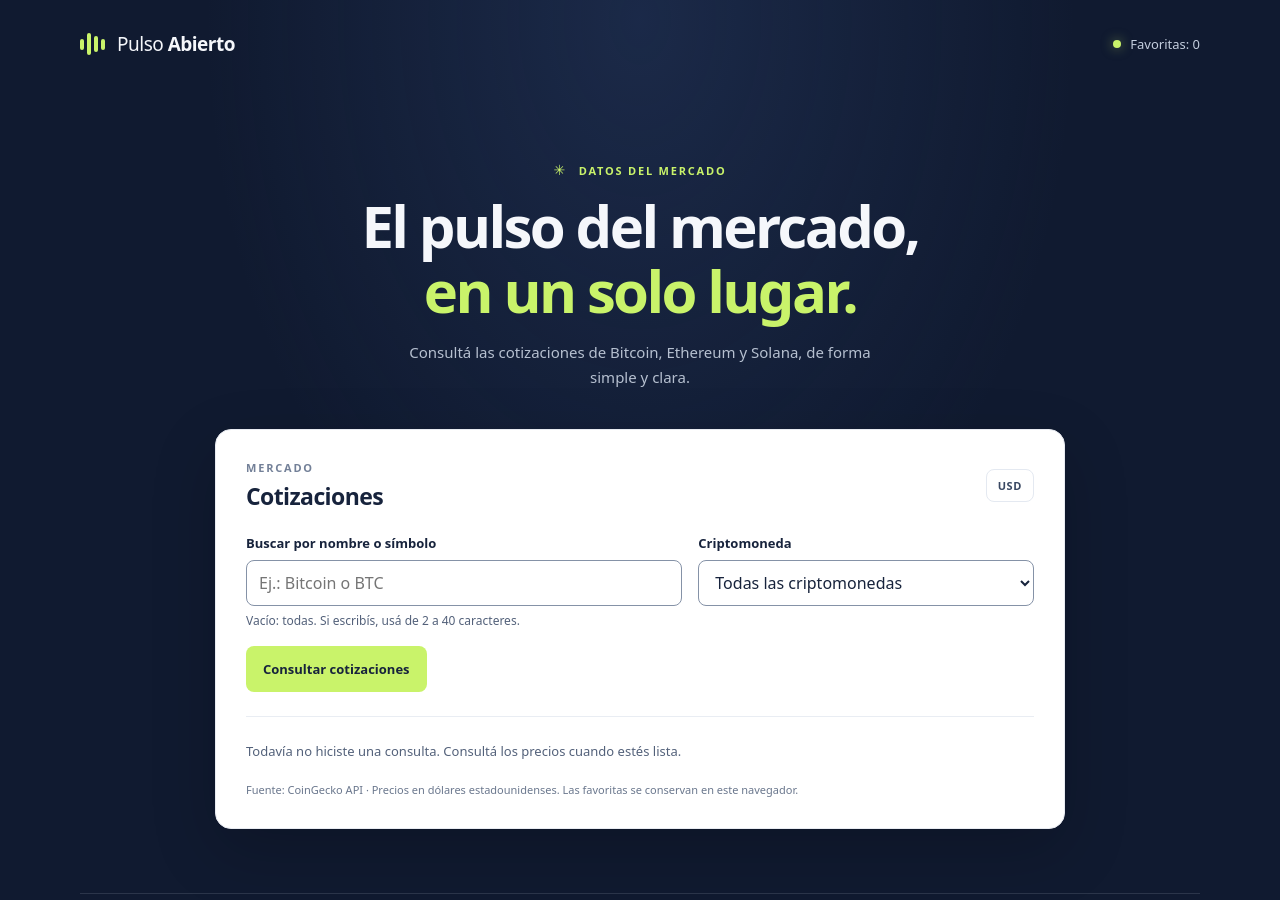
recorridos de Pulso Abierto › bloquea el formulario inválido y combina búsqueda con selección
This screenshot has width=1280, height=900.
Type "x" into the search field labelled "Buscar por nombre o símbolo" at (464, 583), box [246,560,682,606]
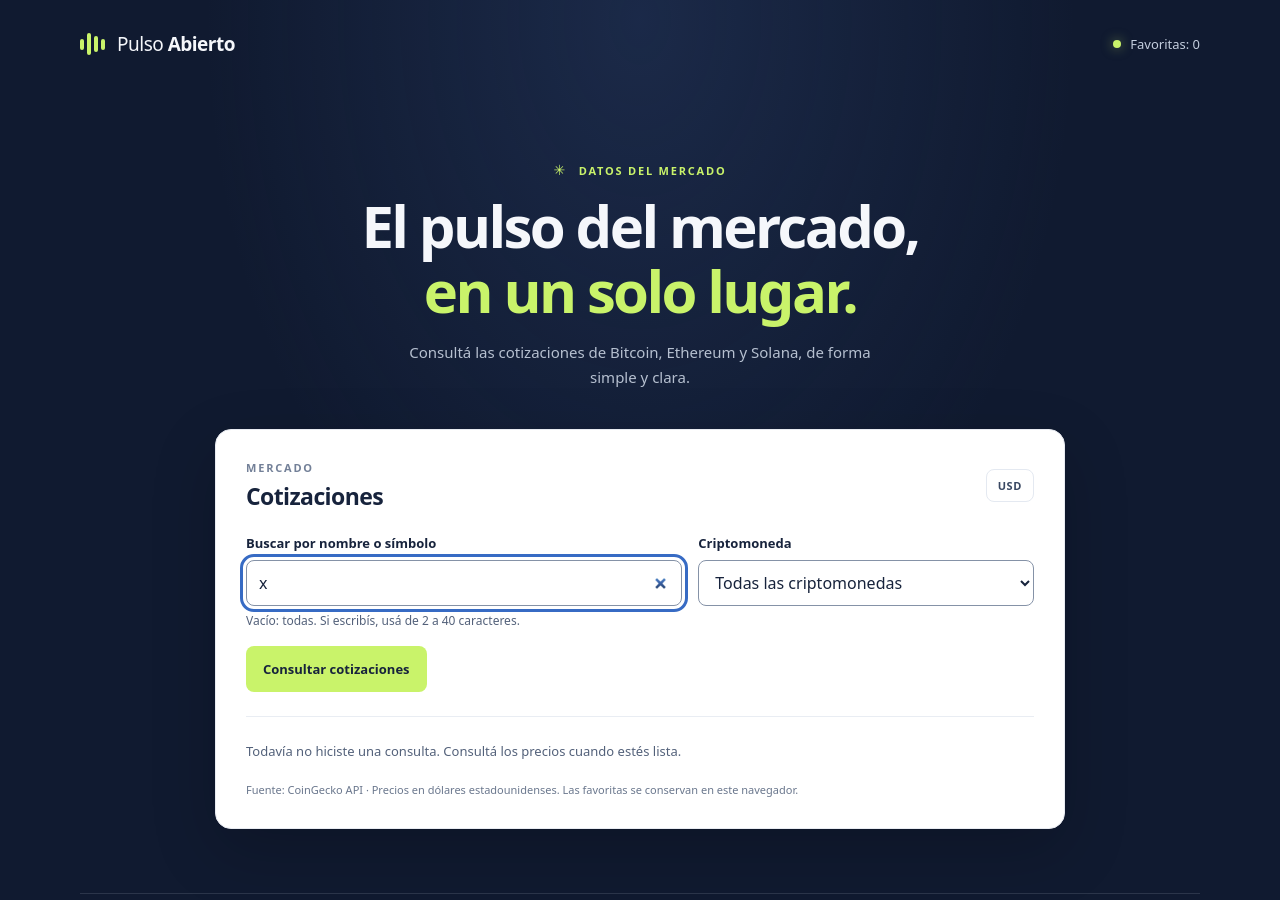
Click the button "Consultar cotizaciones" at (336, 669), box [246,646,426,692]
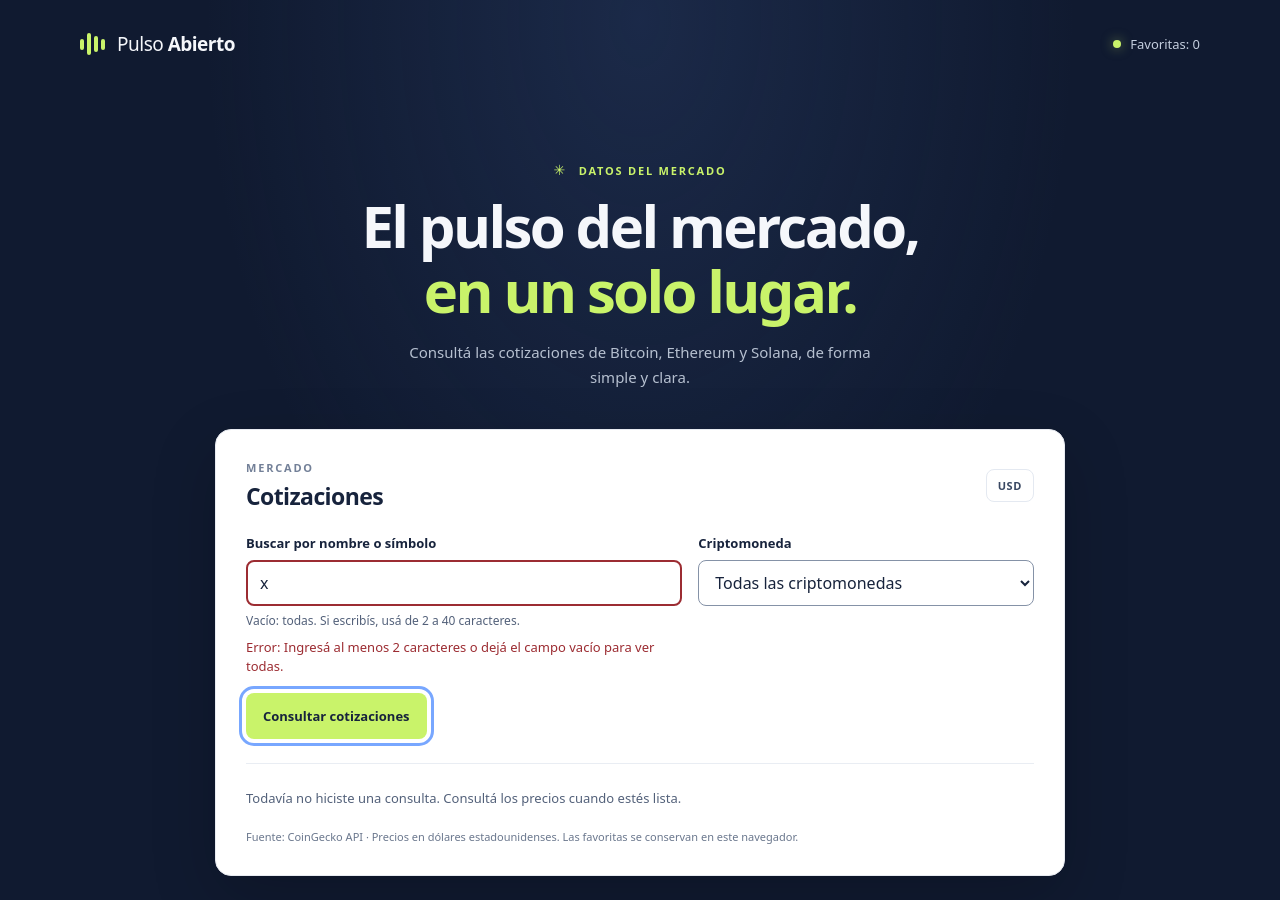
Now the message "Error: Ingresá al menos 2 caracteres o dejá el campo vacío para ver todas." is shown, box [246,638,682,677]
Replace the text in the search field labelled "Buscar por nombre o símbolo" with "BTC" at (464, 583), box [246,560,682,606]
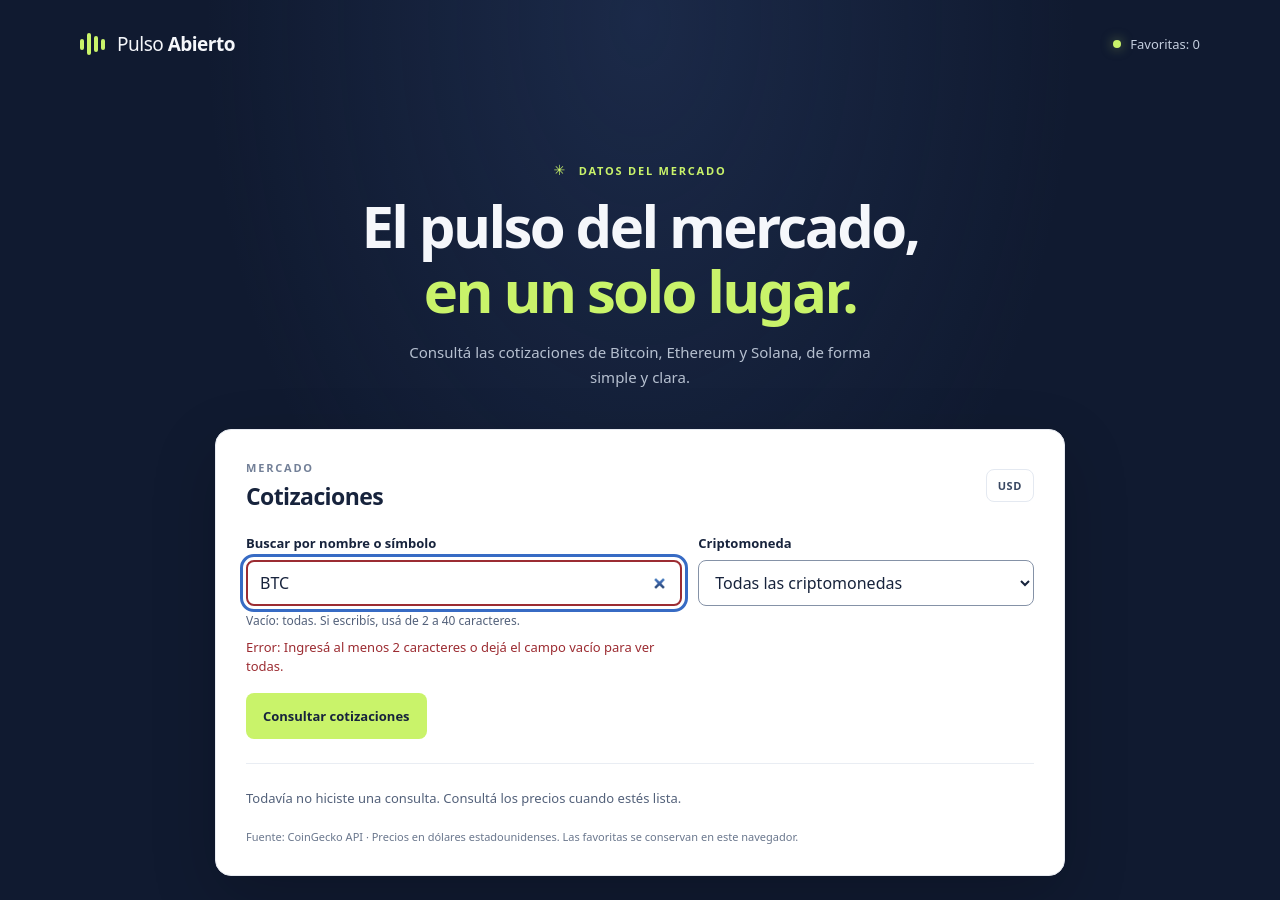
Select "Ethereum" in the dropdown labelled "Criptomoneda" at (866, 583), box [698,560,1034,606]
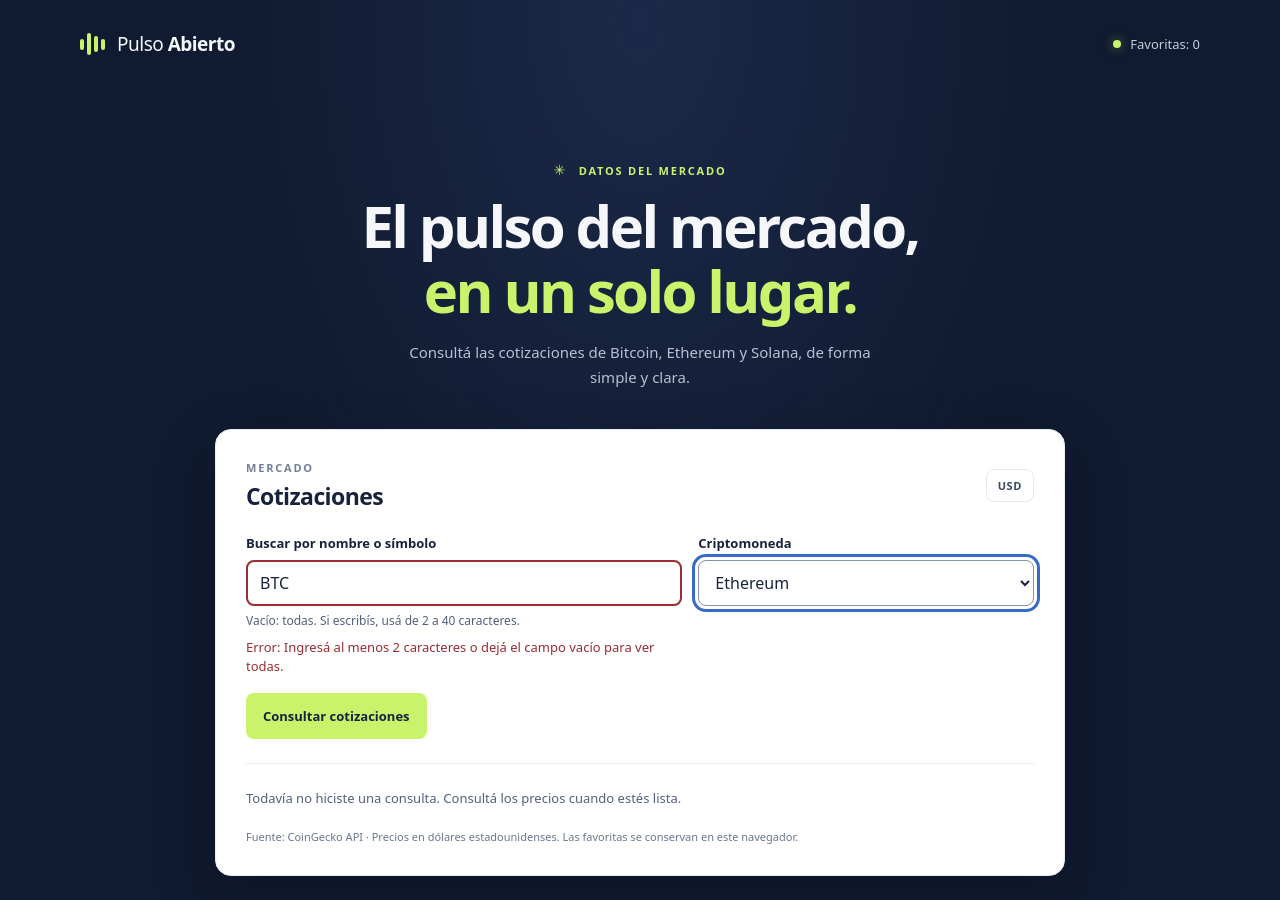
Click the button "Consultar cotizaciones" at (336, 716), box [246,693,426,739]
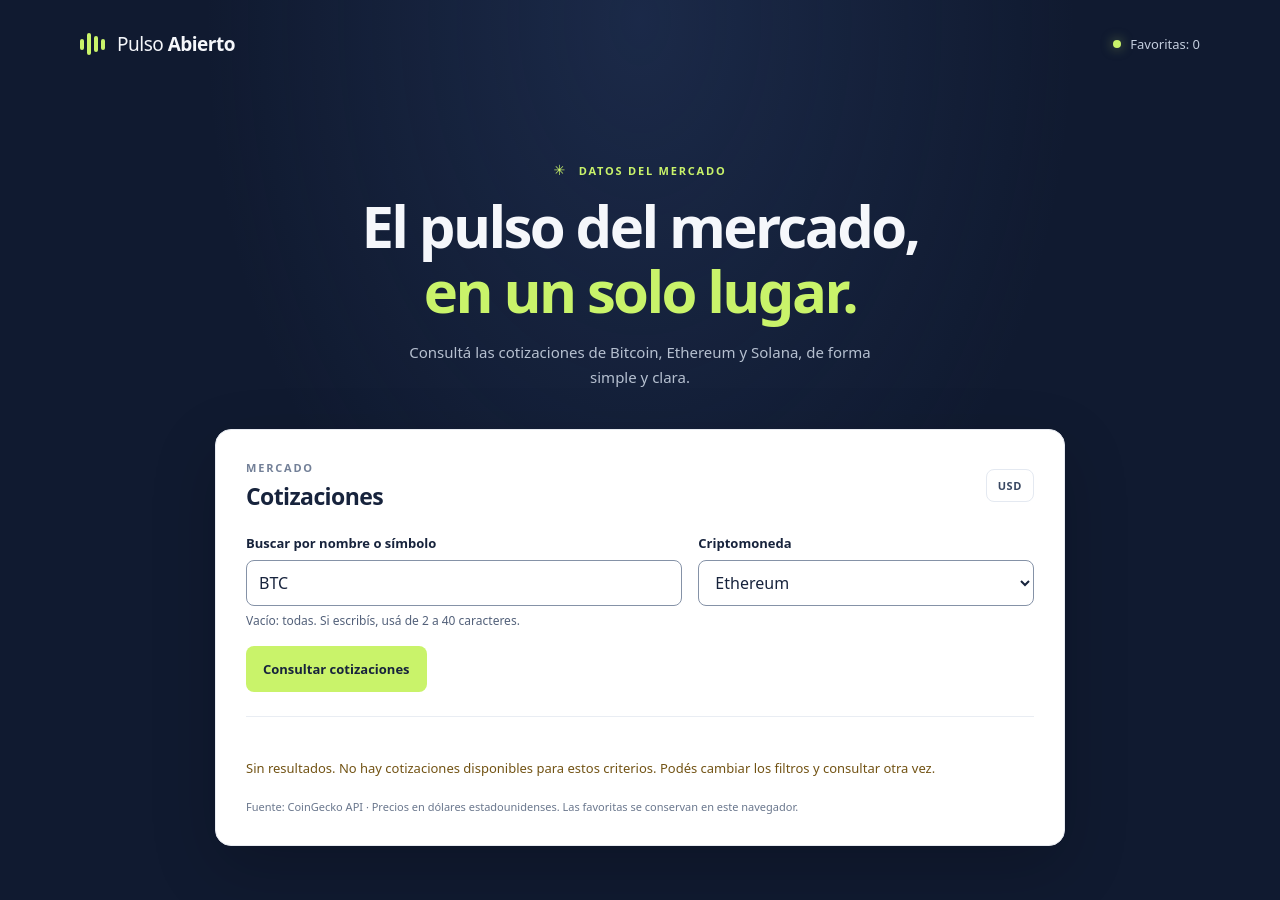
Now the message shows "Sin resultados", box [246,759,935,777]
